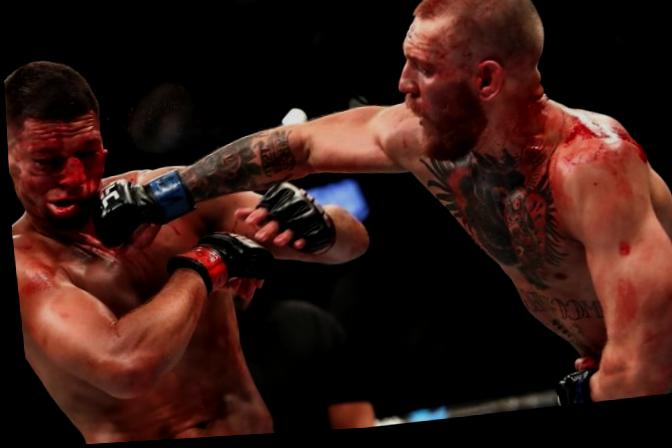Fire: (511, 101, 646, 196), (5, 111, 104, 231), (402, 24, 482, 88), (413, 0, 466, 23)
